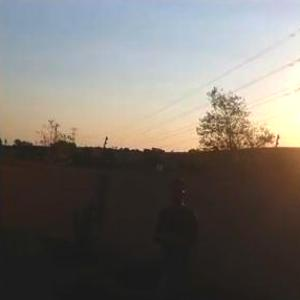follow: (145, 171, 202, 299)
